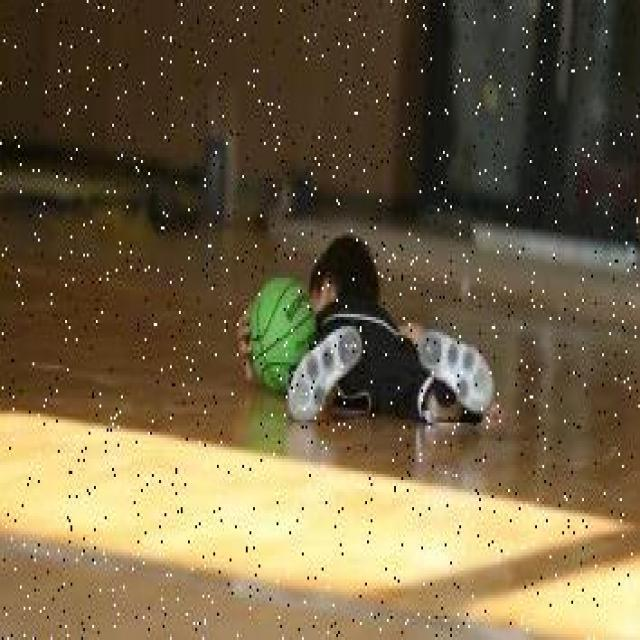fall: (296, 232, 486, 422)
